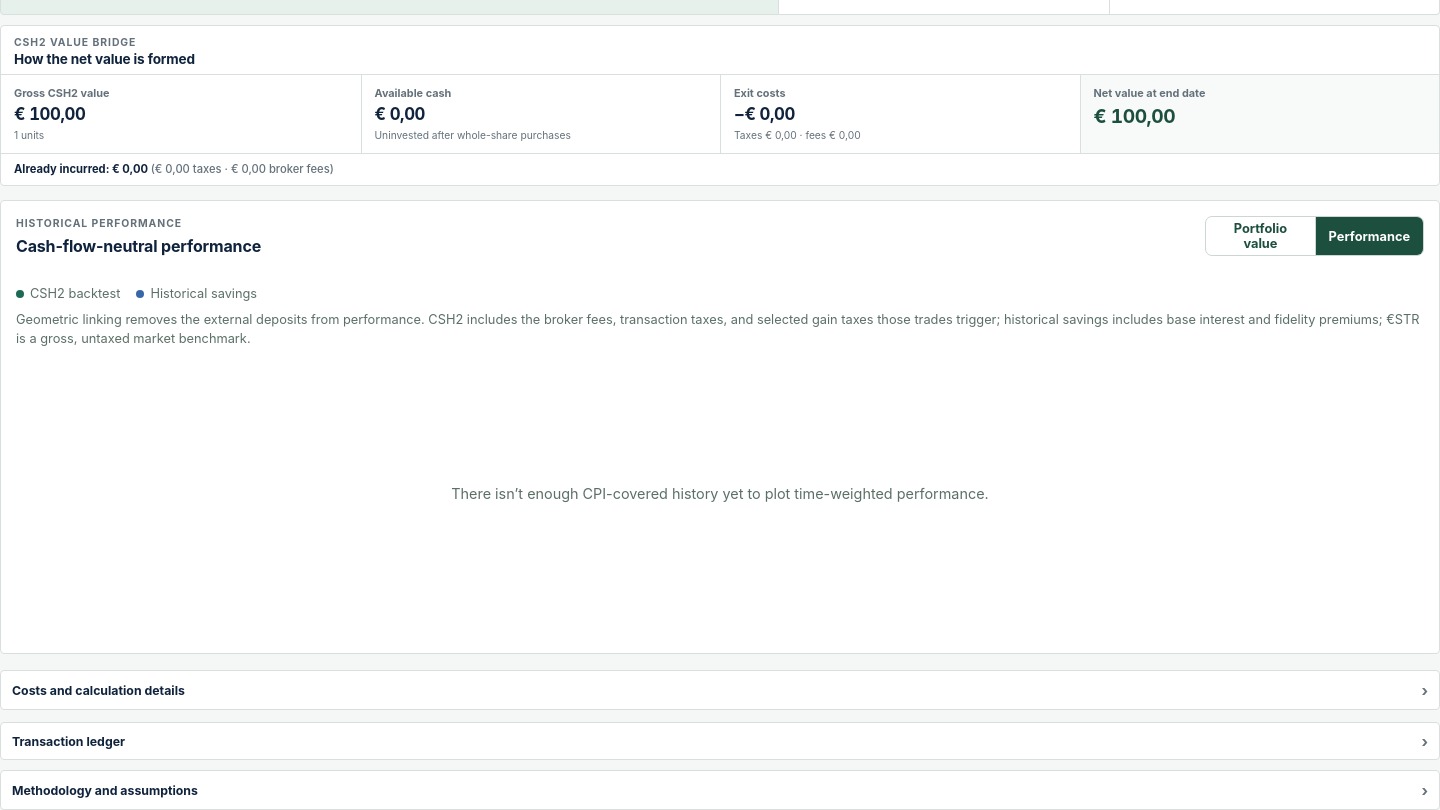
historical savings result placement › labels terminal values against the selected historical end date
(page scrolled)
Click the heading "Costs and calculation details": (98, 690) [12,683,185,698]
(page scrolled)
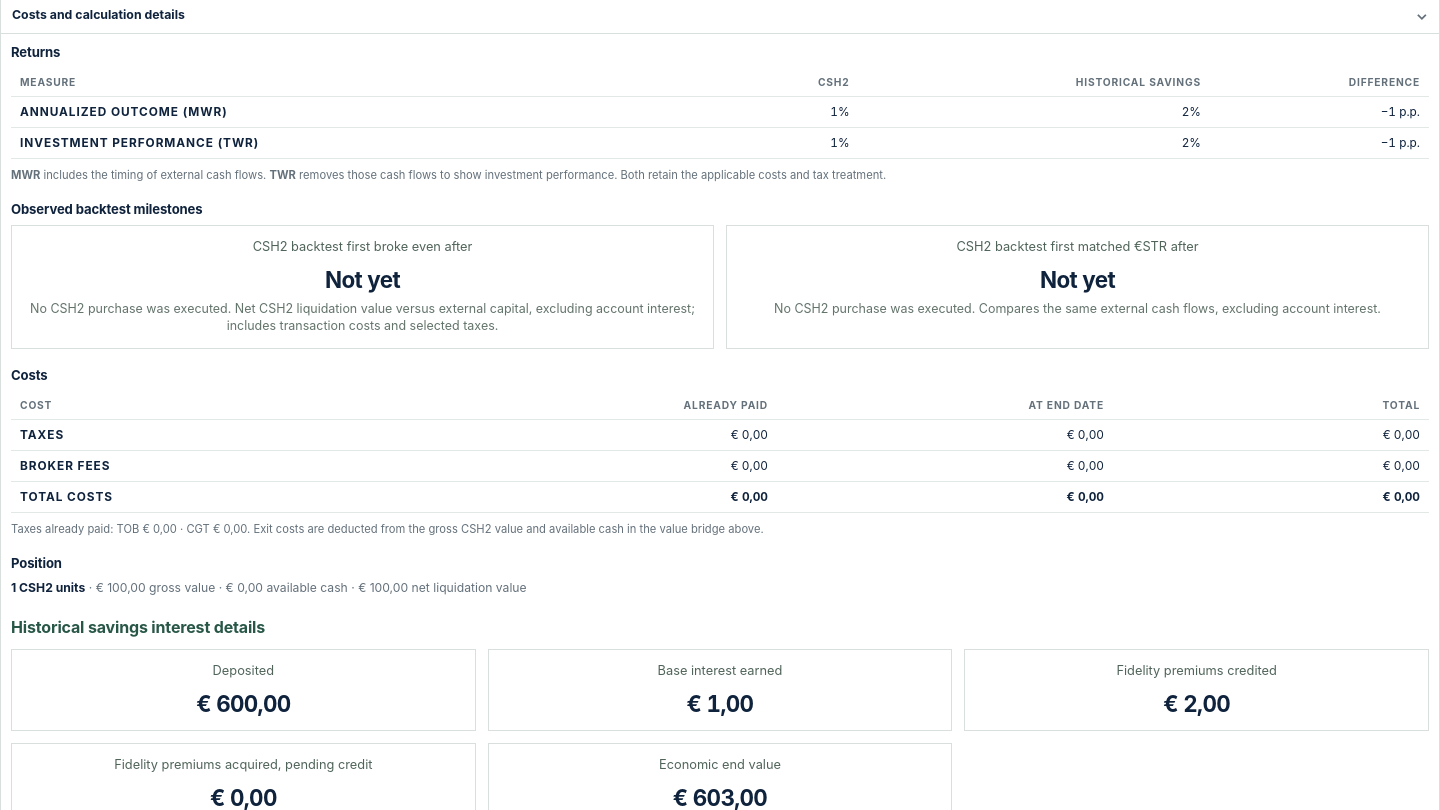
Expected: the column heading "At end date" is shown, [777,391,1113,420]
Expected: the column heading "Already paid" is shown, [409,391,777,420]
